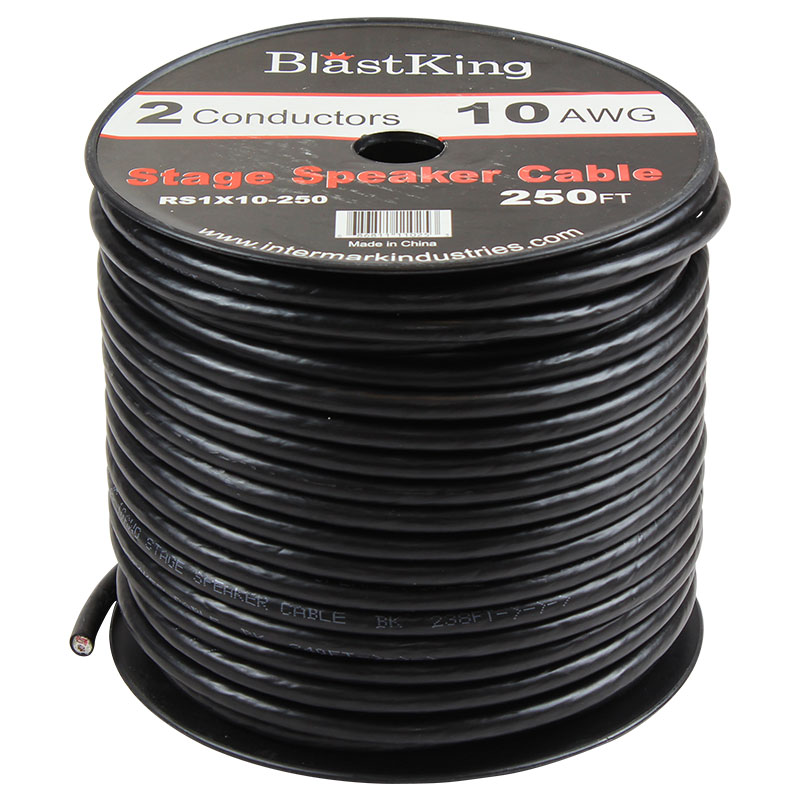Nonrec_Tangler: (77, 6, 737, 761)
